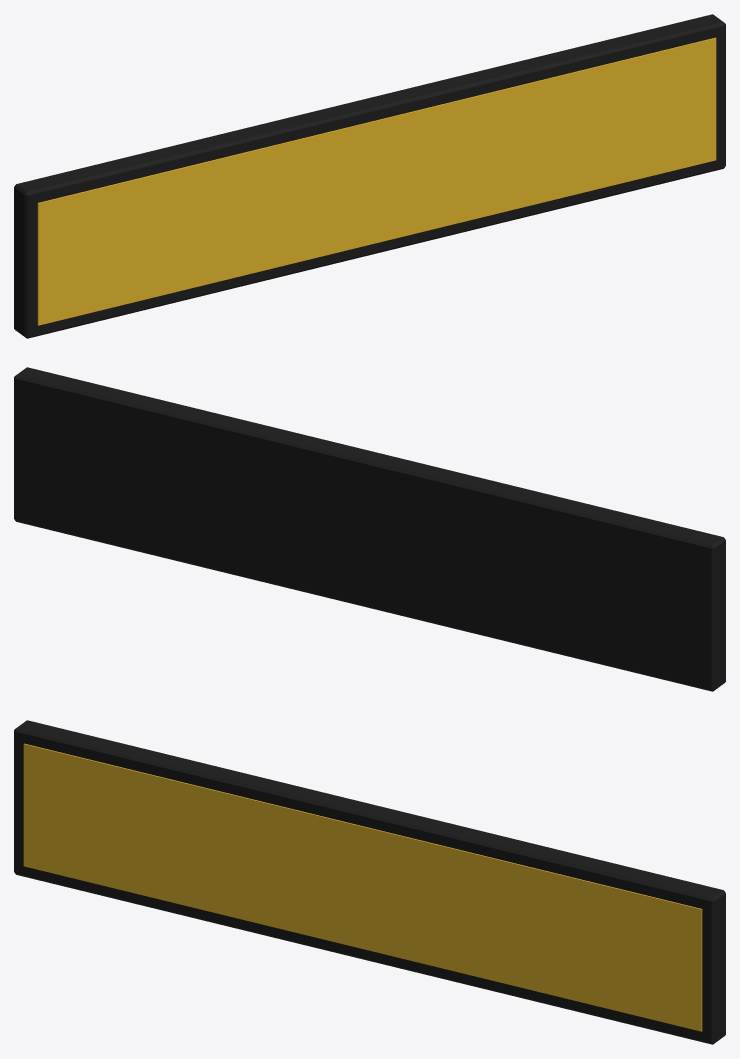
The model's file is PRP_HQSign.fbx.
3 views of the same model, one above another, from view 1: azimuth 30°, elevation 25°; view 2: azimuth 150°, elevation 25°; view 3: azimuth 330°, elevation 25° (orthographic).
Visible parts, largest first — view 1: PRP_HQSign; view 2: PRP_HQSign; view 3: PRP_HQSign.
Part boxes in pixels (x1,y1,x2,y2): PRP_HQSign: (14,14,725,338); PRP_HQSign: (14,367,725,691); PRP_HQSign: (14,720,725,1044).
Bounding box in the file's own units: 30 × 6 × 1.04.
